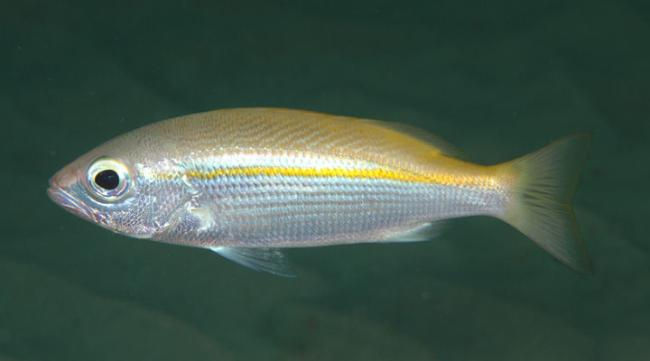fish: (45, 105, 597, 281)
